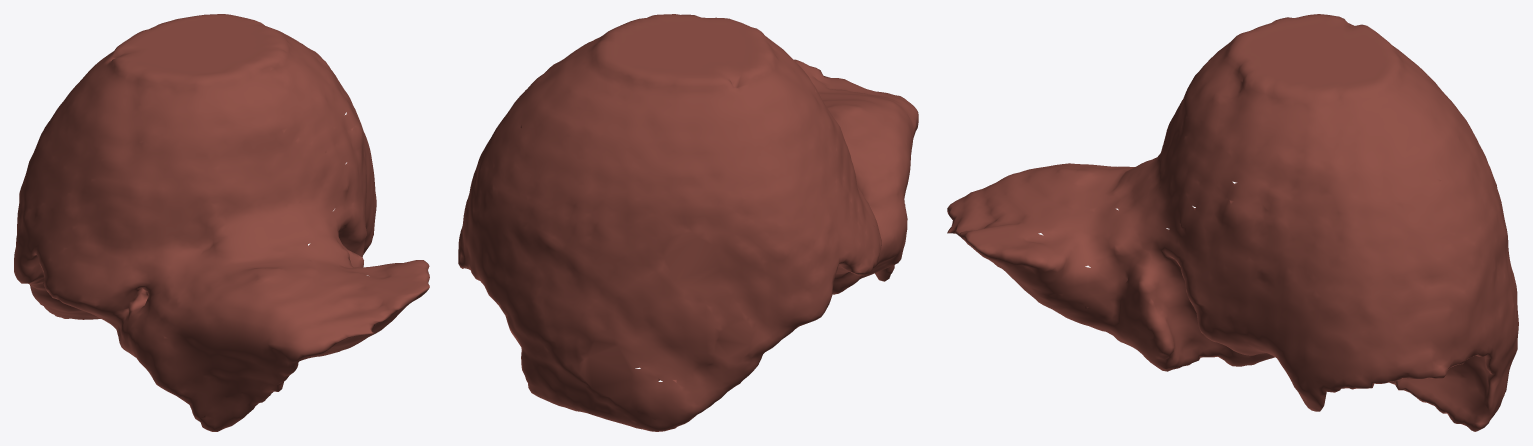
File: Leberneu.glb
3 views of the same model, side by side, from view 1: azimuth 30°, elevation 25°; view 2: azimuth 150°, elevation 25°; view 3: azimuth 270°, elevation 25° (orthographic). The views are drawn at different scales.
Parts seen in each view (by area): view 1: liver-normal; view 2: liver-normal; view 3: liver-normal.
Part boxes in pixels (bbox=[...]): liver-normal: bbox=[14, 14, 429, 431]; liver-normal: bbox=[458, 14, 918, 431]; liver-normal: bbox=[947, 14, 1518, 431].
Size of the model in its own units: 173 by 148 by 223.
